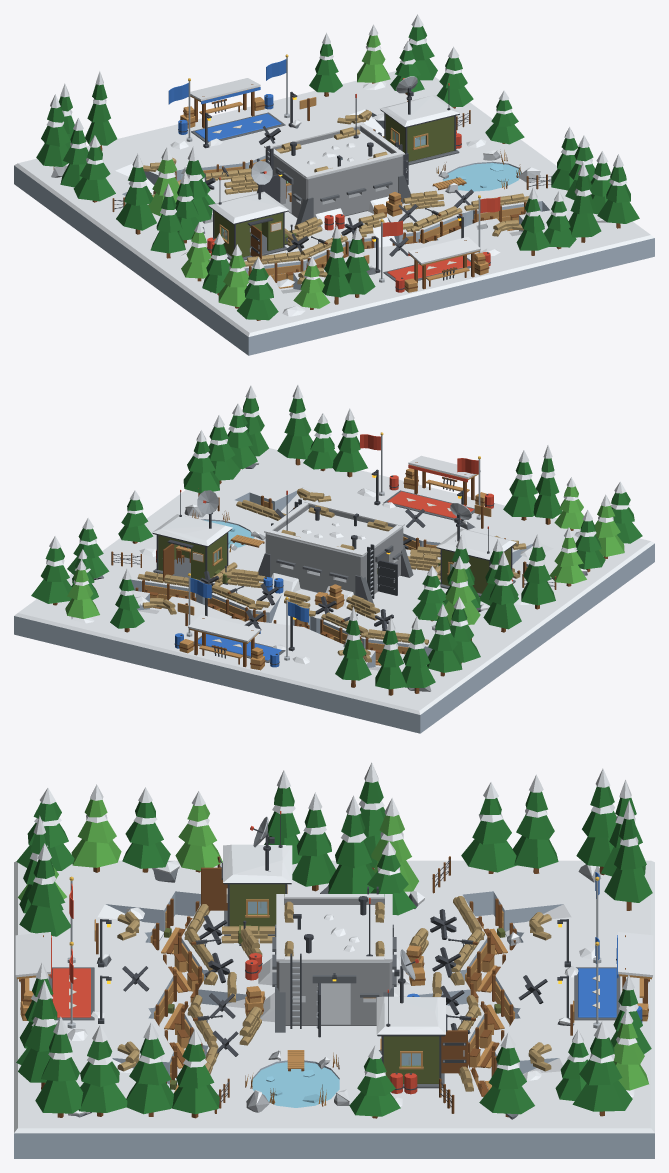
Rendered from snowy-bunker-battle-map.glb.
3 renders of one model, top to bottom at view 1: azimuth 30°, elevation 25°; view 2: azimuth 150°, elevation 25°; view 3: azimuth 270°, elevation 25°, orthographic. The views are drawn at different scales.
Visible parts, largest first — view 1: Snow_Base, Pines, Bunker_Trim, Bunker_Shell, Spawn_Blue_Area, Cover_Sandbags, Spawn_Red_Area, RadarHut_A_Details, RadarHut_B_Details, RadarHut_B_Body, Trench_Red_Woodwork, Trench_Red_Sandbags (+8 smaller); view 2: Snow_Base, Pines, Bunker_Trim, Bunker_Shell, Cover_Sandbags, Spawn_Blue_Area, Spawn_Red_Area, RadarHut_B_Details, Trench_Blue_Woodwork, Trench_Blue_Sandbags, RadarHut_A_Details, RadarHut_B_Body (+9 smaller); view 3: Snow_Base, Pines, Bunker_Trim, Bunker_Shell, Cover_Sandbags, RadarHut_B_Details, Spawn_Blue_Area, RadarHut_A_Details, Spawn_Red_Area, Trench_Blue_Woodwork, Trench_Red_Woodwork, Pond_Ice (+16 smaller).
Part boxes in pixels (x1,y1,x2,y2): Snow_Base: [14, 71, 654, 355]; Pines: [36, 14, 639, 320]; Bunker_Trim: [257, 94, 410, 228]; Bunker_Shell: [265, 126, 403, 218]; Spawn_Blue_Area: [178, 54, 316, 148]; Cover_Sandbags: [143, 110, 523, 284]; Spawn_Red_Area: [364, 195, 490, 292]; RadarHut_A_Details: [207, 177, 296, 260]; RadarHut_B_Details: [379, 83, 461, 165]; RadarHut_B_Body: [385, 114, 454, 161]; Trench_Red_Woodwork: [248, 202, 526, 288]; Trench_Red_Sandbags: [244, 193, 528, 266]; Snow_Base: [14, 448, 654, 733]; Pines: [31, 385, 642, 695]; Bunker_Trim: [258, 490, 413, 606]; Bunker_Shell: [265, 504, 403, 595]; Cover_Sandbags: [142, 488, 526, 662]; Spawn_Blue_Area: [174, 573, 296, 670]; Spawn_Red_Area: [371, 432, 494, 528]; RadarHut_B_Details: [152, 490, 232, 584]; Trench_Blue_Woodwork: [135, 580, 408, 665]; Trench_Blue_Sandbags: [137, 571, 428, 644]; RadarHut_A_Details: [436, 526, 516, 596]; RadarHut_B_Body: [158, 533, 226, 579]; Snow_Base: [14, 860, 654, 1158]; Pines: [16, 762, 652, 1118]; Bunker_Trim: [258, 886, 410, 1032]; Bunker_Shell: [276, 897, 392, 1025]; Cover_Sandbags: [117, 901, 551, 1071]; RadarHut_B_Details: [376, 983, 447, 1094]; Spawn_Blue_Area: [557, 876, 653, 1035]; RadarHut_A_Details: [221, 811, 292, 945]; Spawn_Red_Area: [15, 876, 111, 1028]; Trench_Blue_Woodwork: [465, 898, 516, 1095]; Trench_Red_Woodwork: [150, 898, 204, 1092]; Pond_Ice: [252, 1062, 339, 1107].
Bounding box in the file's own units: 100 × 25.5 × 100.
